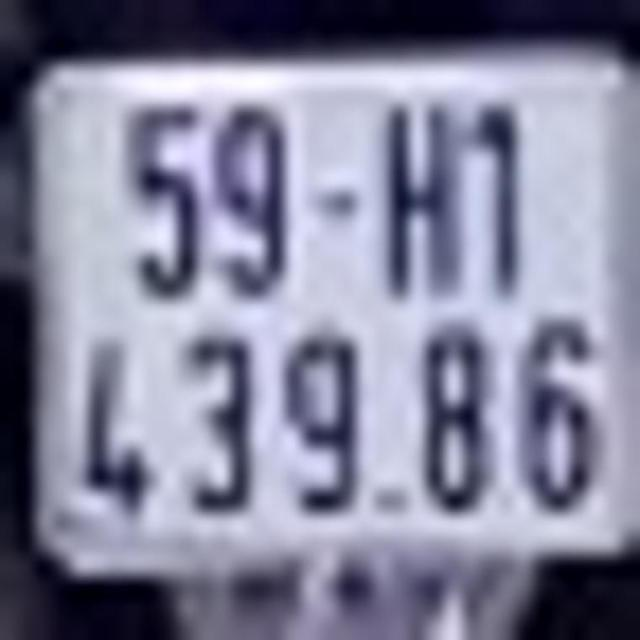1: (473, 106, 522, 299)
3: (182, 332, 252, 516)
4: (81, 335, 154, 519)
5: (124, 100, 203, 300)
6: (526, 311, 595, 513)
8: (425, 327, 486, 514)
9: (214, 104, 285, 299), (285, 335, 357, 514)
H: (386, 102, 458, 300)
